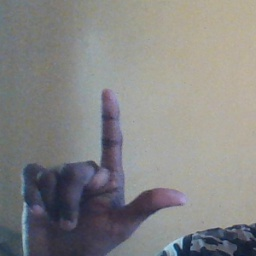L: (18, 87, 188, 256)
